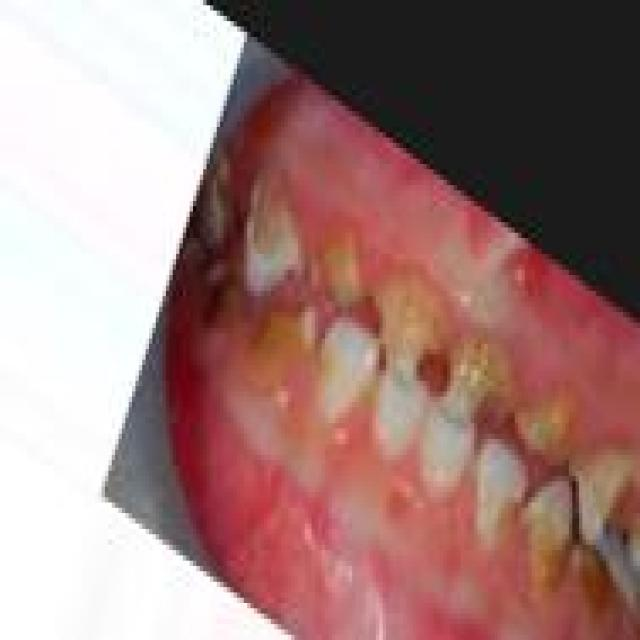caries: (372, 265, 443, 391), (245, 176, 309, 288), (438, 331, 507, 433), (251, 288, 320, 381), (587, 442, 640, 562), (521, 476, 573, 594), (516, 376, 578, 466), (319, 219, 364, 315), (484, 476, 518, 546)
